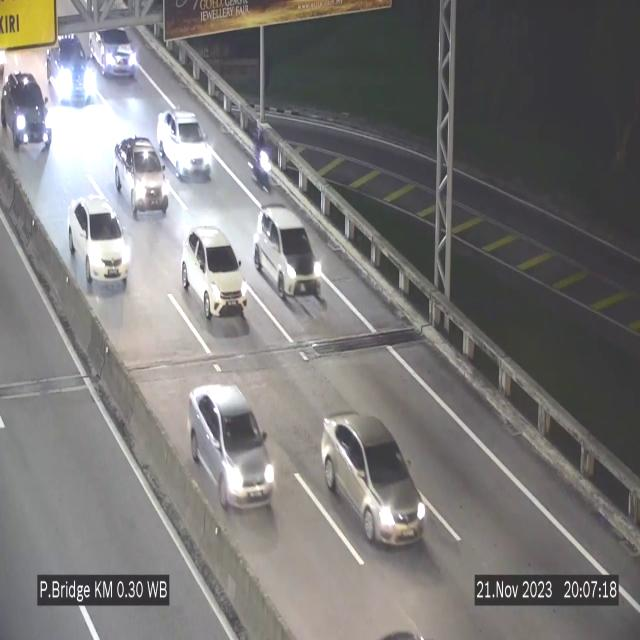Car: (321, 413, 426, 544), (184, 386, 280, 520), (252, 199, 326, 305), (182, 227, 248, 320), (69, 195, 131, 292), (0, 70, 54, 154), (115, 137, 169, 219), (87, 13, 147, 83), (157, 109, 213, 178), (46, 34, 96, 106)
Motorcycle: (252, 132, 272, 200)
